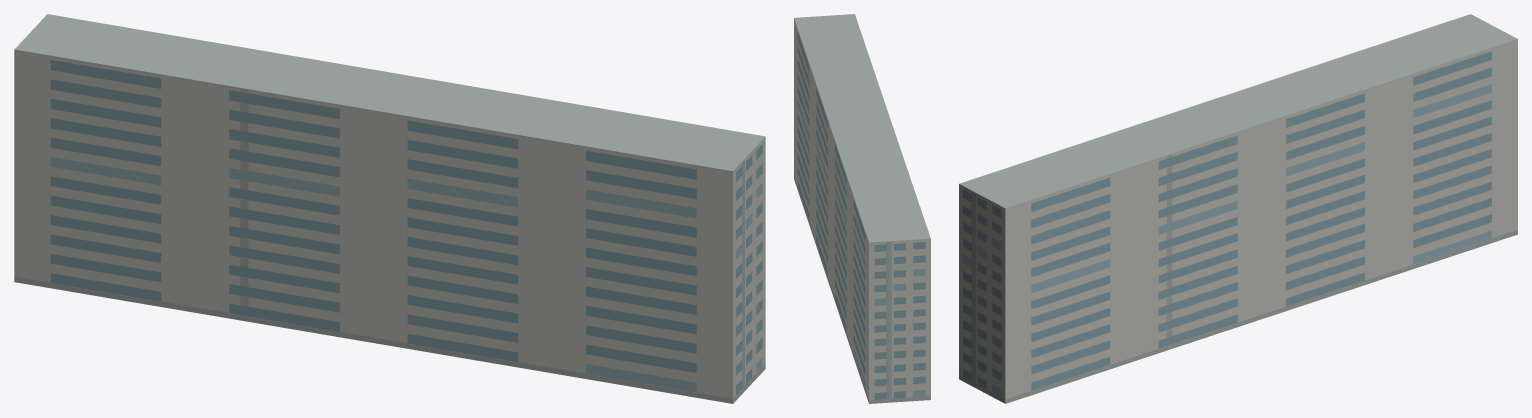
Rendered from residential-f2e44359-c3ea-451a-b3c4-fec07874fd2a.glb.
The picture shows the model from 3 angles, left to right: view 1: azimuth 30°, elevation 25°; view 2: azimuth 150°, elevation 25°; view 3: azimuth 270°, elevation 25°; orthographic projection. The views are drawn at different scales.
Parts seen in each view (by area): view 1: residential-f2e44359-c3ea-451a-b3c4-fec07874fd2a.tmp; view 2: residential-f2e44359-c3ea-451a-b3c4-fec07874fd2a.tmp; view 3: residential-f2e44359-c3ea-451a-b3c4-fec07874fd2a.tmp.
Part boxes in pixels (box(x1,y1,x2,y2)): residential-f2e44359-c3ea-451a-b3c4-fec07874fd2a.tmp: box(14, 14, 765, 403); residential-f2e44359-c3ea-451a-b3c4-fec07874fd2a.tmp: box(794, 14, 930, 403); residential-f2e44359-c3ea-451a-b3c4-fec07874fd2a.tmp: box(959, 14, 1517, 403).
Bounding box in the file's own units: 76.79 × 36 × 93.27.
